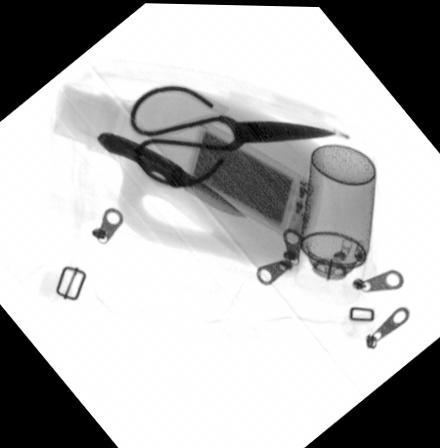Knife: (96, 129, 248, 220)
Powerbank: (185, 119, 321, 247)
Scissors: (128, 84, 339, 189)
Sprayer: (294, 143, 377, 303)
